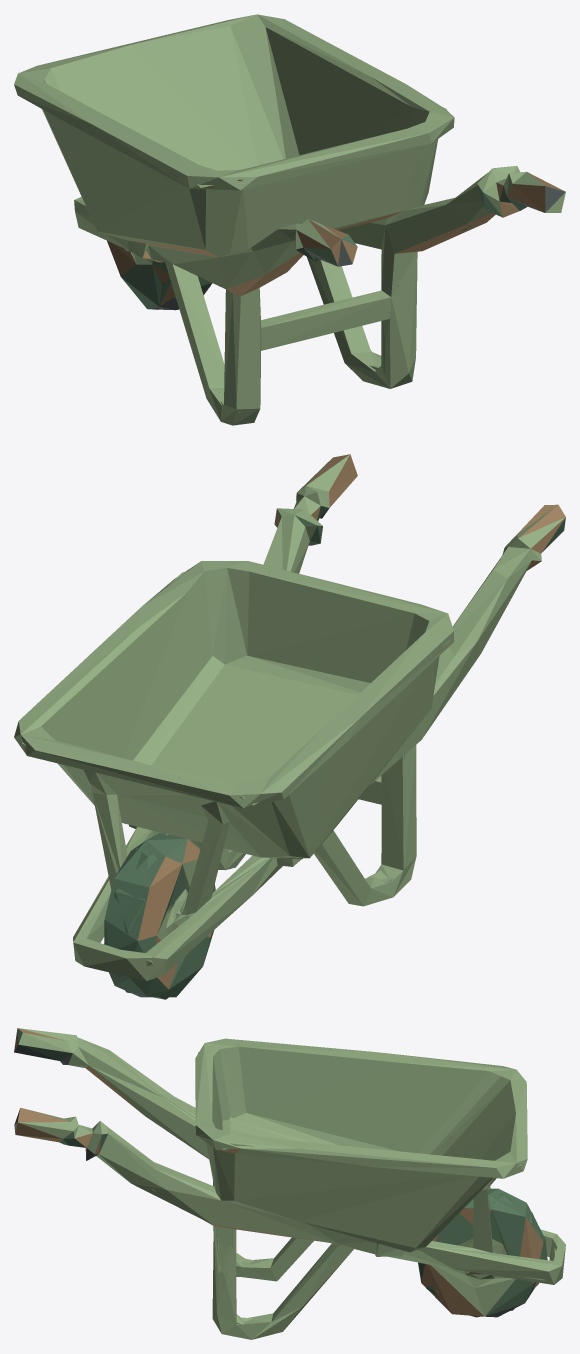
File: ENV_09_WHEELBARROW_game.glb
3 views of the same model, one above another, from view 1: azimuth 30°, elevation 25°; view 2: azimuth 150°, elevation 25°; view 3: azimuth 270°, elevation 25° (orthographic). The views are drawn at different scales.
Parts seen in each view (by area): view 1: ENV_09_WHEELBARROW; view 2: ENV_09_WHEELBARROW; view 3: ENV_09_WHEELBARROW.
Boxes of the visible parts, x1=… form: ENV_09_WHEELBARROW: x1=14, y1=14, x2=565, y2=425; ENV_09_WHEELBARROW: x1=14, y1=454, x2=565, y2=999; ENV_09_WHEELBARROW: x1=14, y1=1028, x2=565, y2=1339.
Size of the model in its own units: 0.8774 by 0.95 by 1.94.
